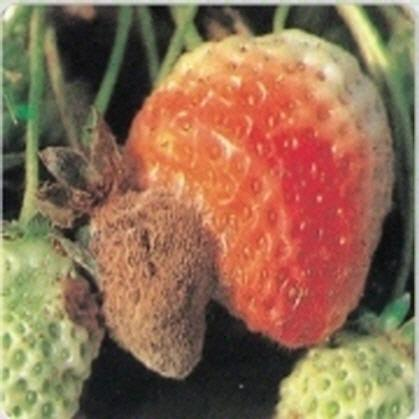Gray Mold: (31, 106, 220, 380)
